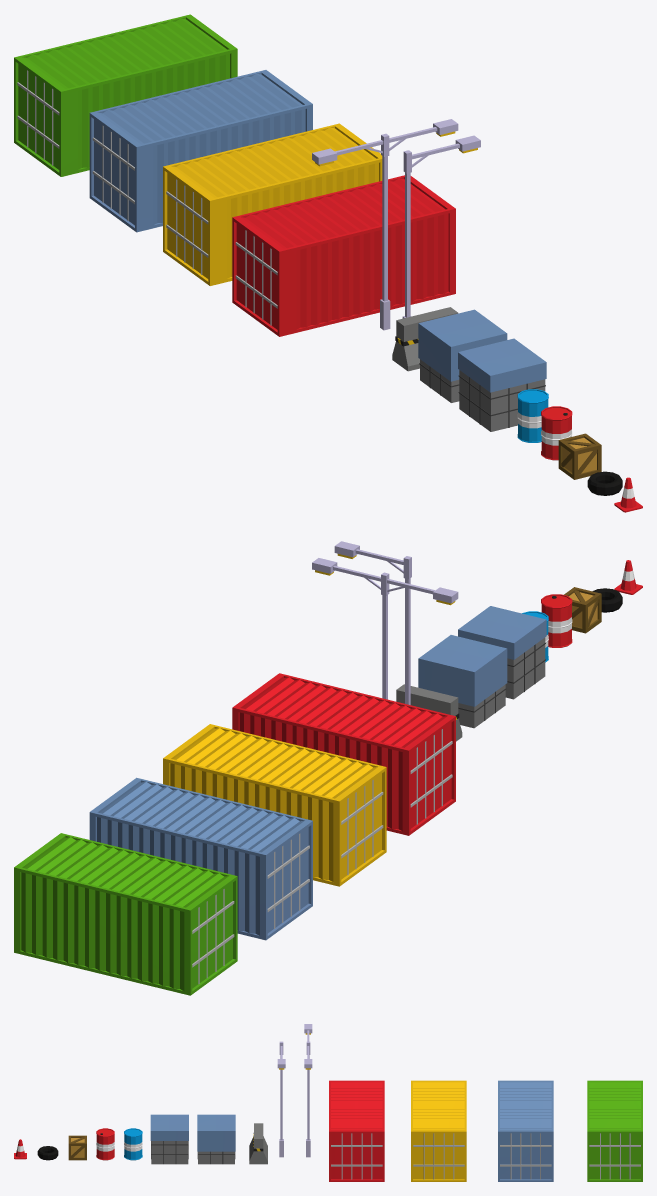
The model's file is asset pack 1.fbx.
3 renders of one model, top to bottom at view 1: azimuth 30°, elevation 25°; view 2: azimuth 150°, elevation 25°; view 3: azimuth 270°, elevation 25°, orthographic. The views are drawn at different scales.
Visible parts, largest first — view 1: Cube.007, Cube.009, Cube.008, Cube.006, Cube.002, Cube.004, Cube.005, Cube.003, Cube.001, Cube, Cylinder.001, Cylinder (+1 smaller); view 2: Cube.009, Cube.008, Cube.006, Cube.007, Cube.004, Cube.002, Cube.005, Cube.003, Cylinder, Cube, Cube.001; view 3: Cube.007, Cube.006, Cube.008, Cube.009, Cube.004, Cube.002, Cube, Cube.005, Cylinder, Cylinder.001, Cube.001, Cube.003 (+1 smaller).
Part boxes in pixels (box(x1,y1,x2,y2)): Cube.007: box(232, 175, 455, 336); Cube.009: box(14, 14, 237, 176); Cube.008: box(89, 70, 312, 232); Cube.006: box(163, 123, 382, 285); Cube.002: box(458, 338, 546, 431); Cube.004: box(418, 309, 507, 402); Cube.005: box(312, 119, 458, 330); Cube.003: box(402, 135, 480, 318); Cube.001: box(558, 433, 601, 479); Cube: box(392, 307, 458, 371); Cylinder.001: box(517, 389, 548, 442); Cylinder: box(541, 406, 572, 460); Cube.009: box(14, 833, 237, 995); Cube.008: box(89, 777, 312, 940); Cube.006: box(163, 724, 386, 886); Cube.007: box(232, 673, 455, 835); Cube.004: box(418, 635, 507, 728); Cube.002: box(458, 606, 546, 699); Cube.005: box(312, 558, 458, 699); Cube.003: box(334, 541, 411, 704); Cylinder: box(541, 594, 572, 647); Cube: box(396, 684, 462, 741); Cube.001: box(564, 587, 601, 633); Cube.007: box(329, 1080, 384, 1181); Cube.006: box(411, 1080, 466, 1181); Cube.008: box(498, 1080, 553, 1181); Cube.009: box(587, 1080, 642, 1181); Cube.004: box(197, 1114, 235, 1164); Cube.002: box(150, 1114, 188, 1164); Cube: box(249, 1123, 267, 1164); Cube.005: box(304, 1024, 312, 1157); Cylinder: box(96, 1128, 114, 1160); Cylinder.001: box(124, 1128, 142, 1160); Cube.001: box(68, 1135, 86, 1160); Cube.003: box(277, 1041, 285, 1157).
Bounding box in the file's own units: 1300 × 1358 × 6783.
